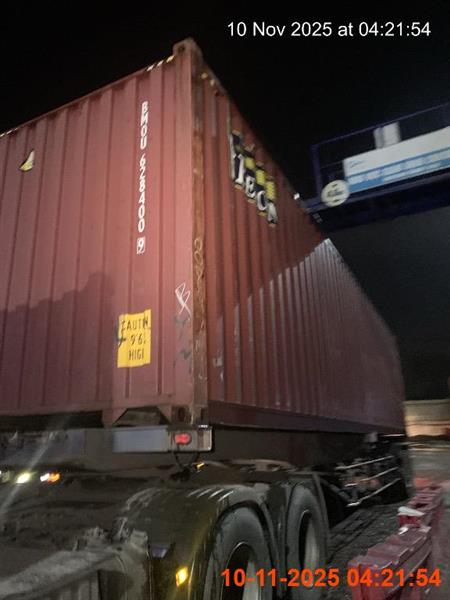hole: (0, 41, 420, 549), (0, 446, 449, 599)
